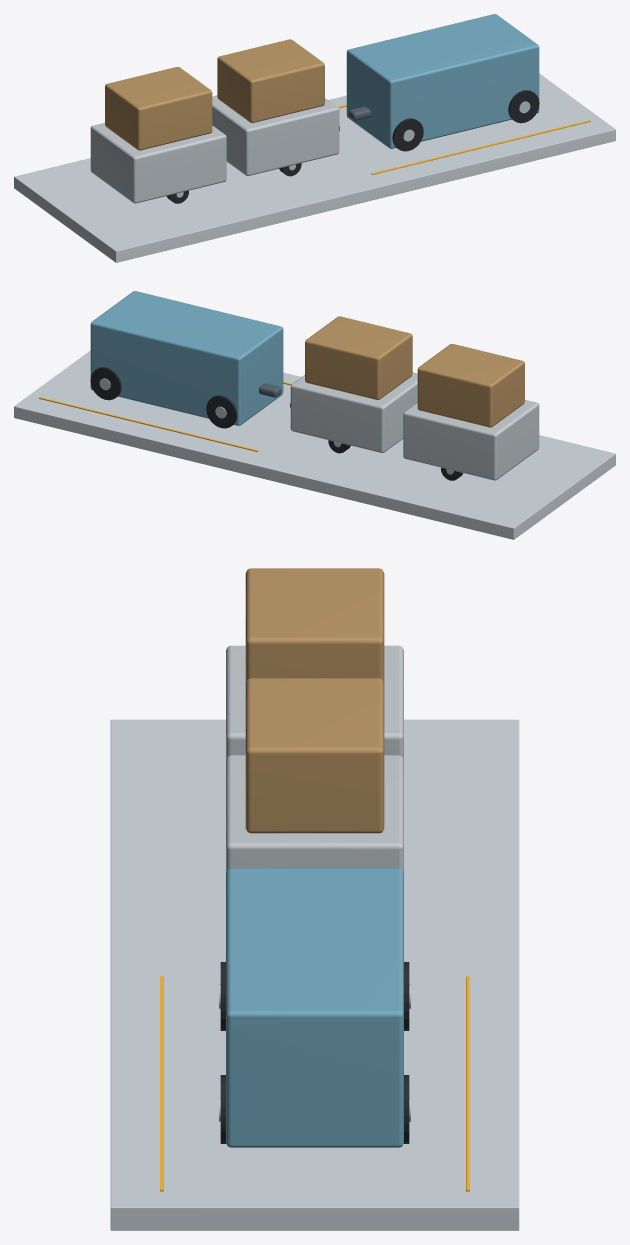
3 views of the same model, one above another, from view 1: azimuth 30°, elevation 25°; view 2: azimuth 150°, elevation 25°; view 3: azimuth 270°, elevation 25° (orthographic). The views are drawn at different scales.
Parts seen in each view (by area): view 1: Ground plane, Tow tractor chassis, Illustrative tugger cart.001, Cart load, Cart load.001, Illustrative tugger cart, Driven wheel / tyre.002, Driven wheel / tyre, Concept clearance guide; view 2: Ground plane, Tow tractor chassis, Illustrative tugger cart.001, Cart load, Cart load.001, Illustrative tugger cart, Driven wheel / tyre.003, Driven wheel / tyre.001, Concept clearance guide.001; view 3: Ground plane, Tow tractor chassis, Cart load, Cart load.001, Illustrative tugger cart, Illustrative tugger cart.001.
Boxes of the visible parts, <box> form: Ground plane: <box>14,73,615,262</box>; Tow tractor chassis: <box>346,14,539,148</box>; Illustrative tugger cart.001: <box>90,123,226,203</box>; Cart load: <box>217,39,324,122</box>; Cart load.001: <box>105,67,212,150</box>; Illustrative tugger cart: <box>212,95,339,175</box>; Driven wheel / tyre.002: <box>508,90,539,123</box>; Driven wheel / tyre: <box>392,118,423,151</box>; Concept clearance guide: <box>371,120,590,174</box>; Ground plane: <box>14,350,615,539</box>; Tow tractor chassis: <box>90,291,283,425</box>; Illustrative tugger cart.001: <box>403,400,539,480</box>; Cart load: <box>305,316,412,399</box>; Cart load.001: <box>417,344,524,427</box>; Illustrative tugger cart: <box>290,372,417,452</box>; Driven wheel / tyre.003: <box>90,367,121,400</box>; Driven wheel / tyre.001: <box>206,395,237,428</box>; Concept clearance guide.001: <box>39,397,258,451</box>; Ground plane: <box>110,719,519,1230</box>; Tow tractor chassis: <box>226,868,403,1147</box>; Cart load: <box>245,678,384,833</box>; Cart load.001: <box>245,568,384,682</box>; Illustrative tugger cart: <box>226,755,403,872</box>; Illustrative tugger cart.001: <box>226,645,403,759</box>.
Bounding box in the file's own units: 5.33 × 1.18 × 1.89.
